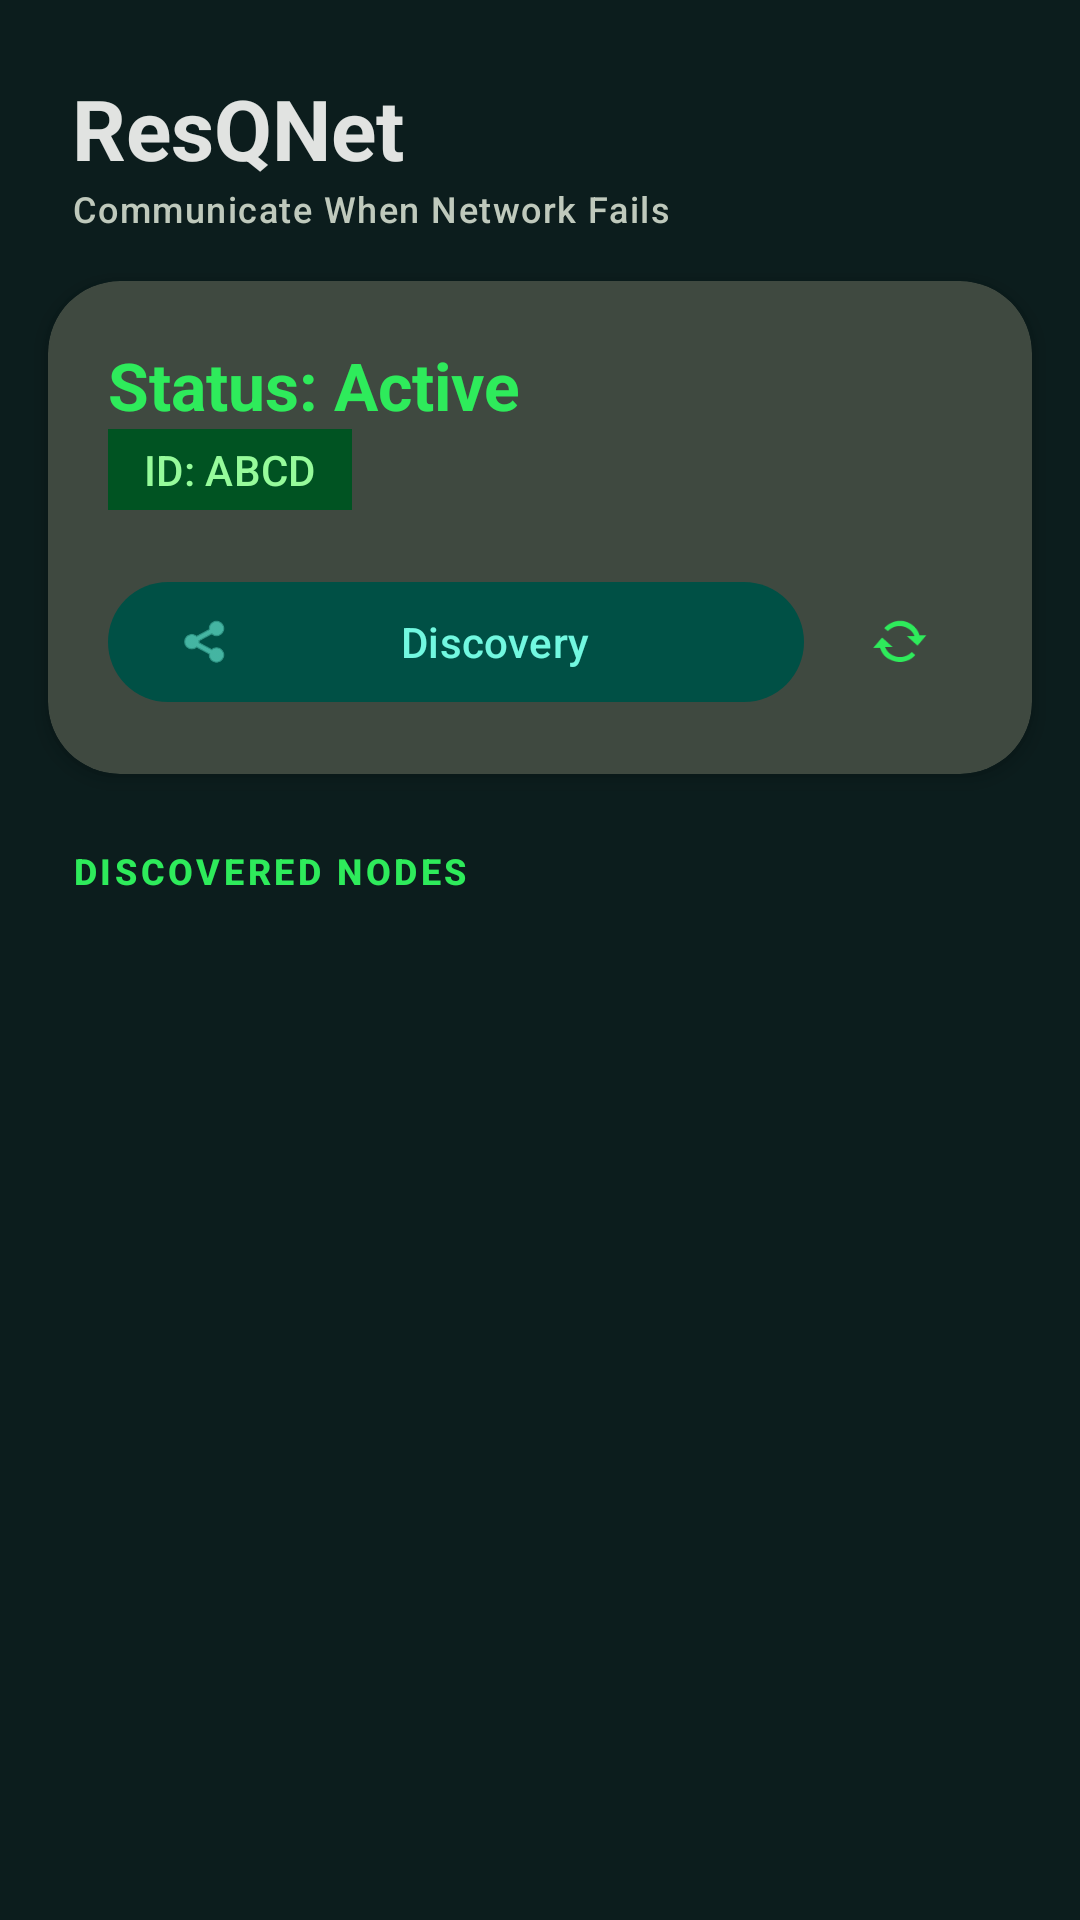

Point at icon controls on the screen. Image size 1080px×1920px, points as (x=x, y=y).
sync: (x=899, y=641)
